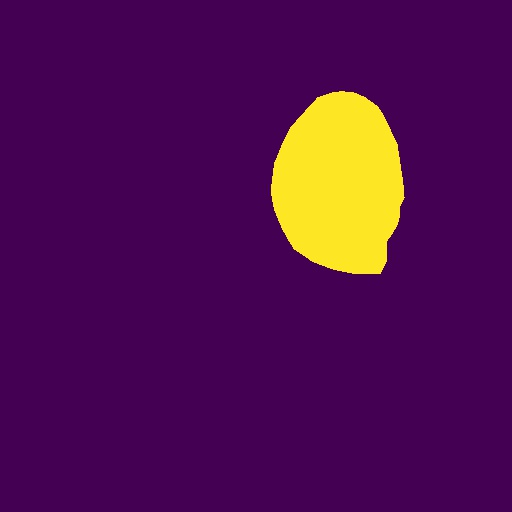Gliomia_tumour: (271, 91, 405, 274)
